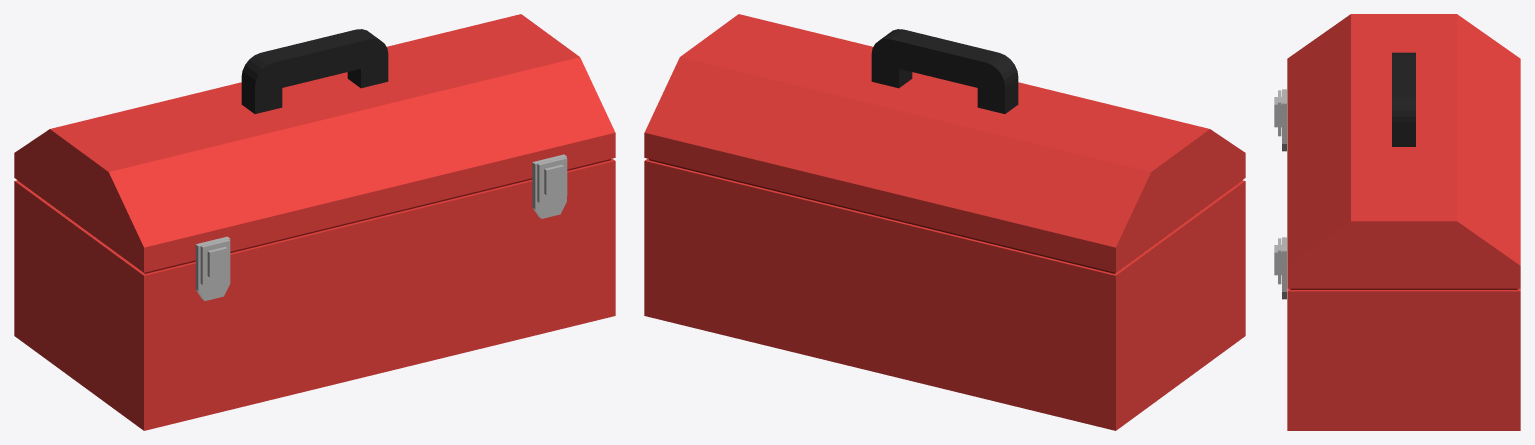
File: toolbox.gltf
3 renders of one model, left to right at view 1: azimuth 30°, elevation 25°; view 2: azimuth 150°, elevation 25°; view 3: azimuth 270°, elevation 25°, orthographic. The views are drawn at different scales.
Parts seen in each view (by area): view 1: Cube.1002; view 2: Cube.1002; view 3: Cube.1002.
Part boxes in pixels (x1=…): Cube.1002: x1=14, y1=14, x2=615, y2=430; Cube.1002: x1=644, y1=14, x2=1245, y2=430; Cube.1002: x1=1274, y1=14, x2=1520, y2=430.
Size of the model in its own units: 2.02 by 1.14 by 1.01.
Materials: 1 (1 with a texture image).
